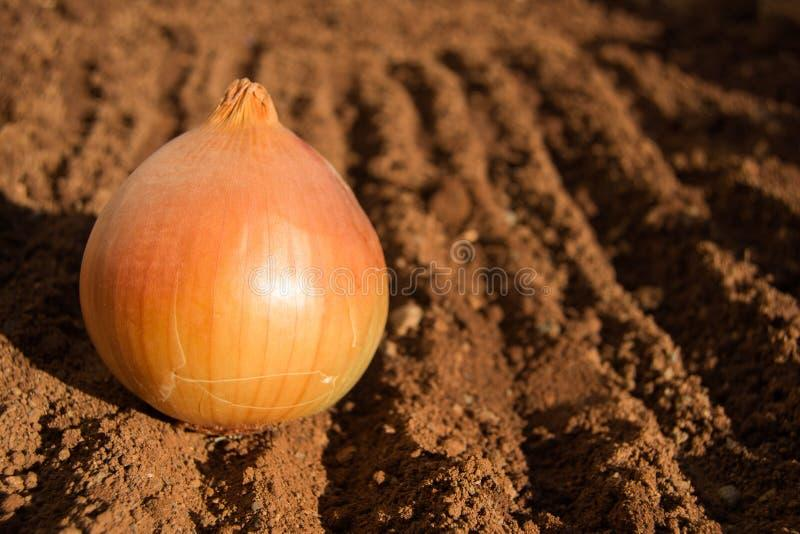Onion: (75, 75, 389, 436)
